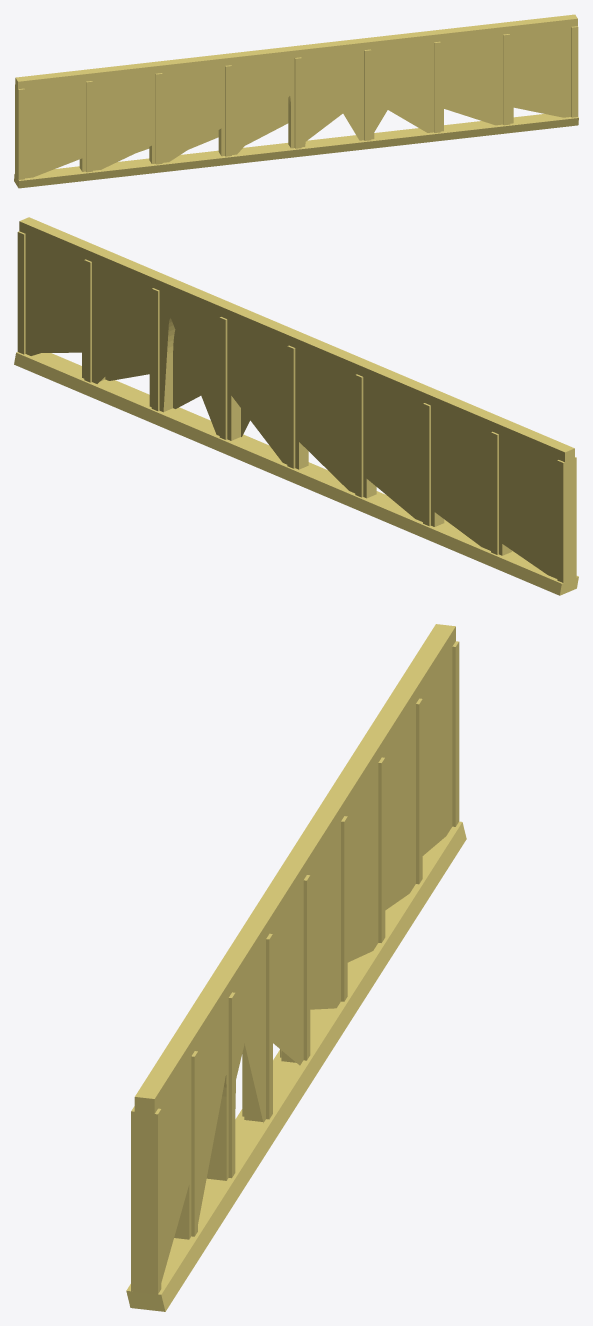
Rendered from Barjerka.fbx.
3 views of the same model, one above another, from view 1: azimuth 30°, elevation 25°; view 2: azimuth 150°, elevation 25°; view 3: azimuth 270°, elevation 25° (orthographic). The views are drawn at different scales.
Parts seen in each view (by area): view 1: Plane.021; view 2: Plane.021; view 3: Plane.021.
Boxes of the visible parts, box(x1,y1,x2,y2) form: Plane.021: box(14, 14, 578, 188); Plane.021: box(14, 217, 578, 595); Plane.021: box(126, 624, 466, 1311).
Bounding box in the file's own units: 3.84 × 0.793 × 1.16.
